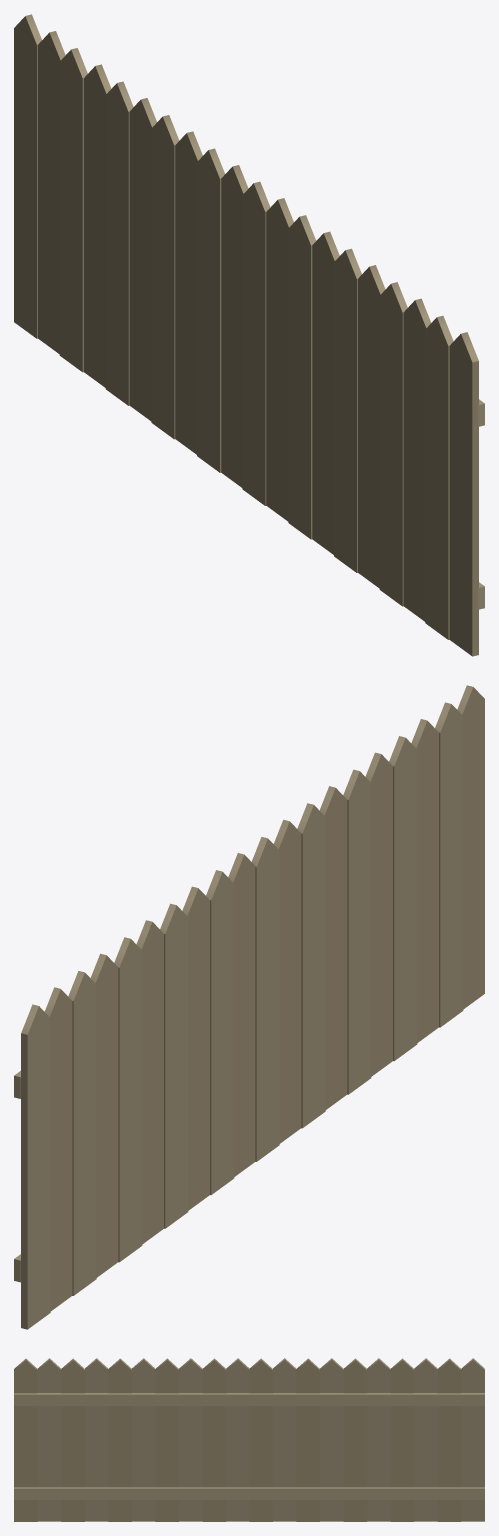
The model's file is fence_20posts.fbx.
3 views of the same model, one above another, from view 1: azimuth 30°, elevation 25°; view 2: azimuth 150°, elevation 25°; view 3: azimuth 270°, elevation 25° (orthographic). The views are drawn at different scales.
Parts seen in each view (by area): view 1: pCube115, pCube128, pCube111, pCube118, pCube133, pCube119, pCube125, pCube114, pCube135, pCube121, pCube132, pCube113 (+8 smaller); view 2: pCube132, pCube119, pCube135, pCube111, pCube128, pCube121, pCube125, pCube133, pCube114, pCube118, pCube134, pCube131 (+8 smaller); view 3: pCube117, pCube131, pCube134, pCube126, pCube114, pCube115, pCube129, pCube113, pCube120, pCube112, pCube127, pCube119 (+16 smaller).
Boxes of the visible parts, x1=… form: pCube115: x1=449, y1=332, x2=478, y2=656; pCube128: x1=197, y1=148, x2=224, y2=472; pCube111: x1=379, y1=282, x2=407, y2=606; pCube118: x1=242, y1=181, x2=270, y2=505; pCube133: x1=59, y1=48, x2=87, y2=372; pCube119: x1=288, y1=215, x2=316, y2=539; pCube125: x1=151, y1=115, x2=179, y2=439; pCube114: x1=425, y1=315, x2=453, y2=639; pCube135: x1=105, y1=81, x2=133, y2=405; pCube121: x1=334, y1=248, x2=361, y2=572; pCube132: x1=14, y1=14, x2=41, y2=338; pCube113: x1=403, y1=298, x2=431, y2=621; pCube132: x1=21, y1=1004, x2=50, y2=1329; pCube119: x1=297, y1=803, x2=325, y2=1128; pCube135: x1=114, y1=937, x2=142, y2=1262; pCube111: x1=389, y1=736, x2=417, y2=1061; pCube128: x1=206, y1=870, x2=234, y2=1194; pCube121: x1=343, y1=769, x2=371, y2=1094; pCube125: x1=160, y1=903, x2=188, y2=1228; pCube133: x1=68, y1=971, x2=96, y2=1295; pCube114: x1=435, y1=702, x2=463, y2=1027; pCube118: x1=251, y1=837, x2=279, y2=1161; pCube134: x1=90, y1=953, x2=118, y2=1277; pCube131: x1=44, y1=987, x2=72, y2=1311; pCube117: x1=202, y1=1358, x2=226, y2=1521; pCube131: x1=437, y1=1358, x2=461, y2=1521; pCube134: x1=390, y1=1358, x2=414, y2=1521; pCube126: x1=343, y1=1358, x2=367, y2=1521; pCube114: x1=37, y1=1358, x2=61, y2=1521; pCube115: x1=14, y1=1358, x2=37, y2=1521; pCube129: x1=249, y1=1358, x2=272, y2=1521; pCube113: x1=61, y1=1358, x2=84, y2=1521; pCube120: x1=155, y1=1358, x2=178, y2=1521; pCube112: x1=108, y1=1358, x2=131, y2=1521; pCube127: x1=296, y1=1358, x2=319, y2=1521; pCube119: x1=179, y1=1358, x2=202, y2=1521.
Bounding box in the file's own units: 0.0484 × 1.07 × 2.82.
